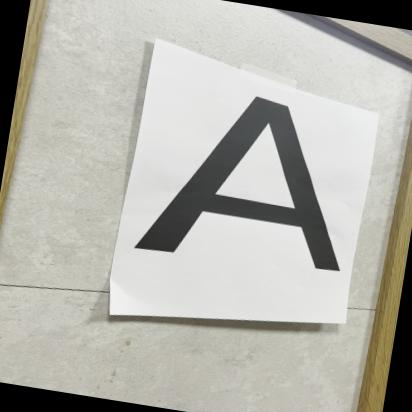seat: (128, 75, 373, 293)
